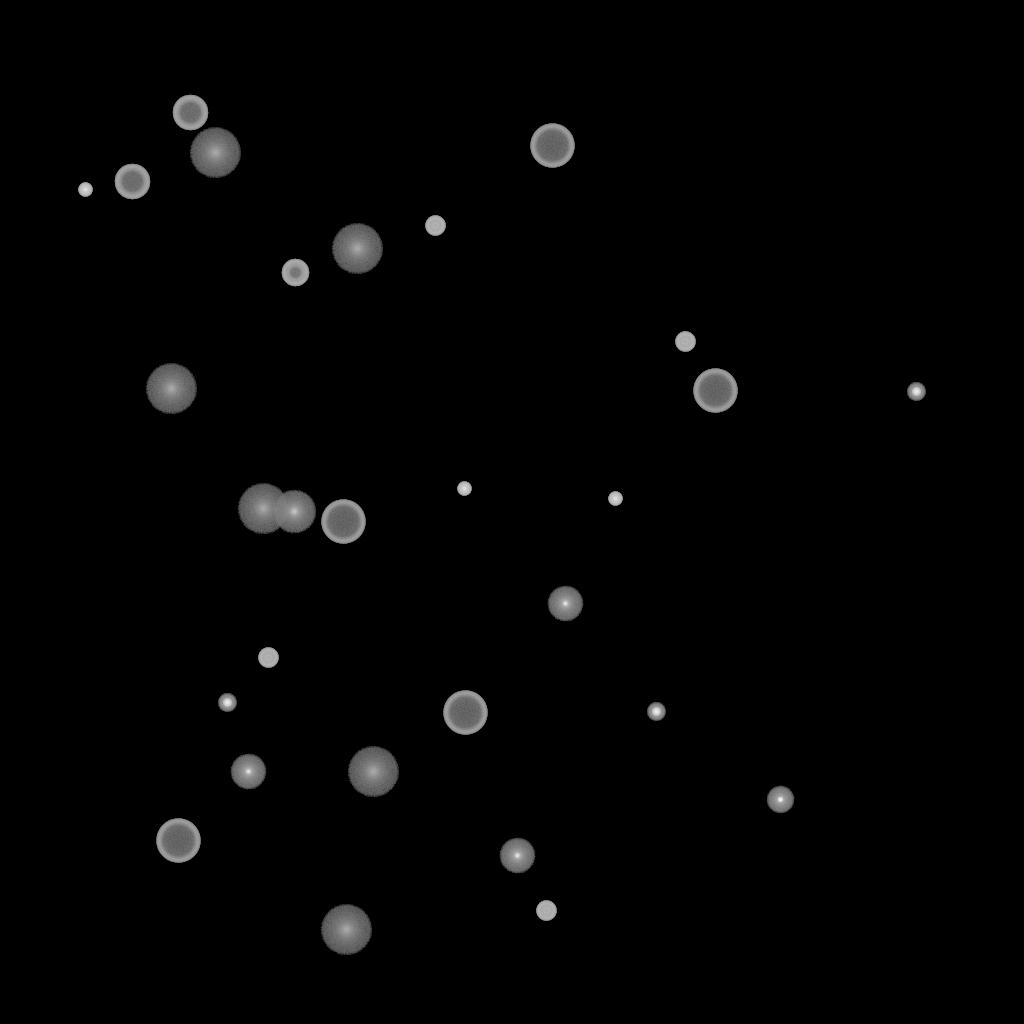depth:-10: (766, 786, 794, 814)
depth:-20: (907, 383, 925, 401), (218, 694, 236, 712), (647, 703, 665, 721)
depth:-30: (78, 183, 92, 197), (457, 482, 471, 496), (608, 492, 622, 506)
depth:-40: (536, 901, 556, 921), (258, 648, 278, 668), (675, 332, 695, 352), (425, 216, 445, 236)
depth:-50: (281, 259, 309, 287)
depth:-60: (114, 164, 150, 200), (172, 95, 208, 131)
depth:-70: (156, 819, 200, 863), (693, 369, 737, 413), (321, 500, 365, 544), (443, 691, 487, 735), (530, 124, 574, 168)
depth:0: (230, 754, 266, 790), (547, 586, 583, 622), (499, 838, 535, 874)
depth:10: (272, 490, 316, 534)
depth:20: (320, 905, 372, 955), (347, 747, 399, 797), (189, 128, 241, 178), (145, 364, 197, 414), (331, 224, 383, 274), (237, 484, 289, 534)
